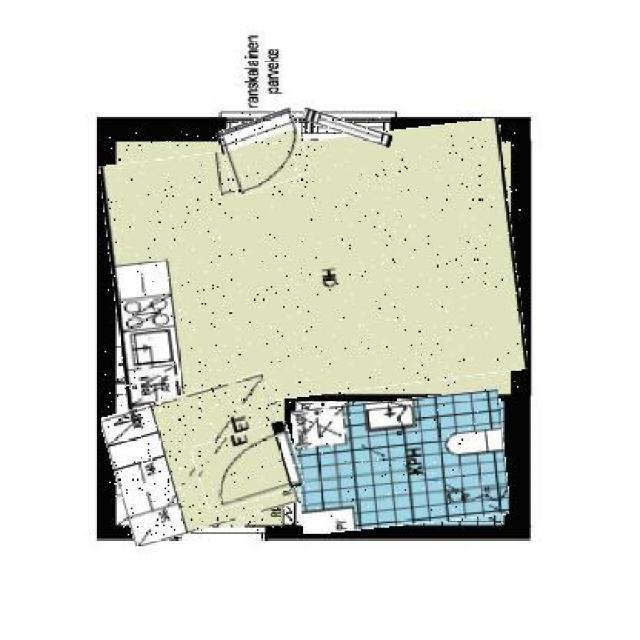door: (196, 426, 302, 506), (220, 112, 308, 192)
window: (302, 114, 392, 141)
zone: (106, 129, 522, 406), (294, 396, 508, 530), (108, 383, 292, 535)
